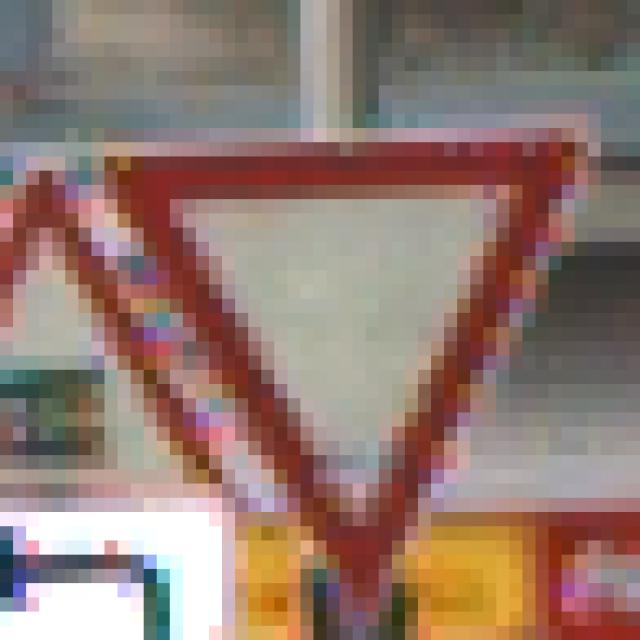Give Way: (66, 86, 576, 570)
